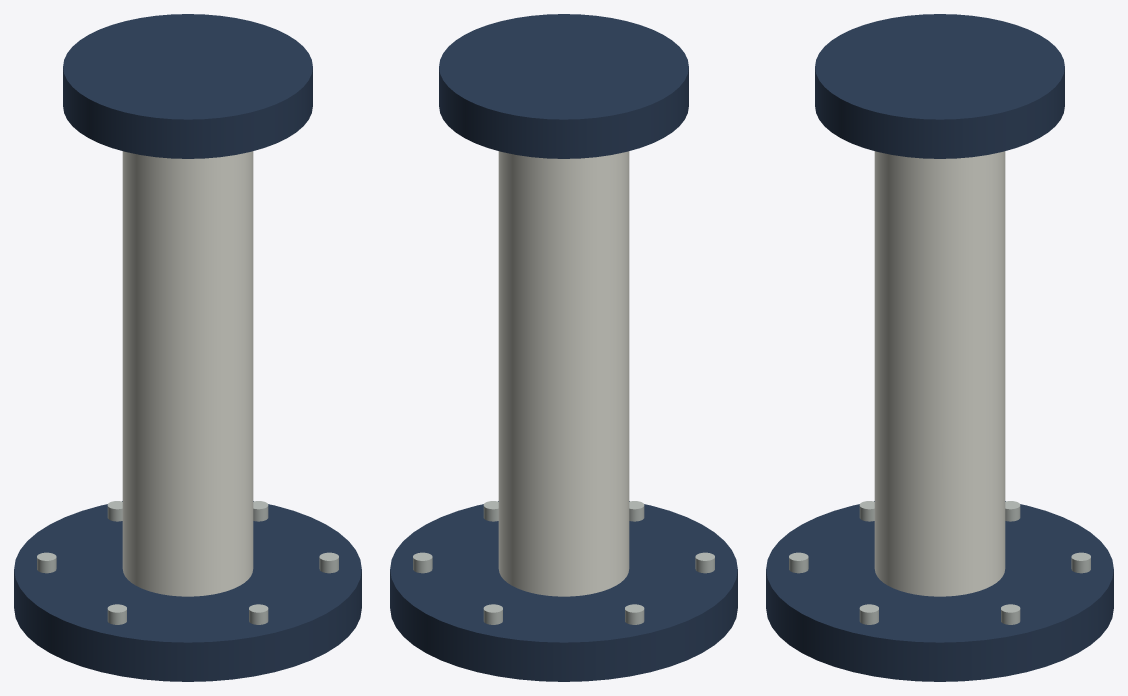
File: planetarium-and-optical-observatory-telescope-pier-d28828de__31848.glb
3 views of the same model, side by side, from view 1: azimuth 30°, elevation 25°; view 2: azimuth 150°, elevation 25°; view 3: azimuth 270°, elevation 25° (orthographic).
Parts seen in each view (by area): view 1: telescope-pier; view 2: telescope-pier; view 3: telescope-pier.
Boxes of the visible parts, x1=… form: telescope-pier: x1=14, y1=14, x2=361, y2=681; telescope-pier: x1=390, y1=14, x2=737, y2=681; telescope-pier: x1=766, y1=14, x2=1113, y2=681.
Bounding box in the file's own units: 0.6401 × 1.1 × 0.6401.
